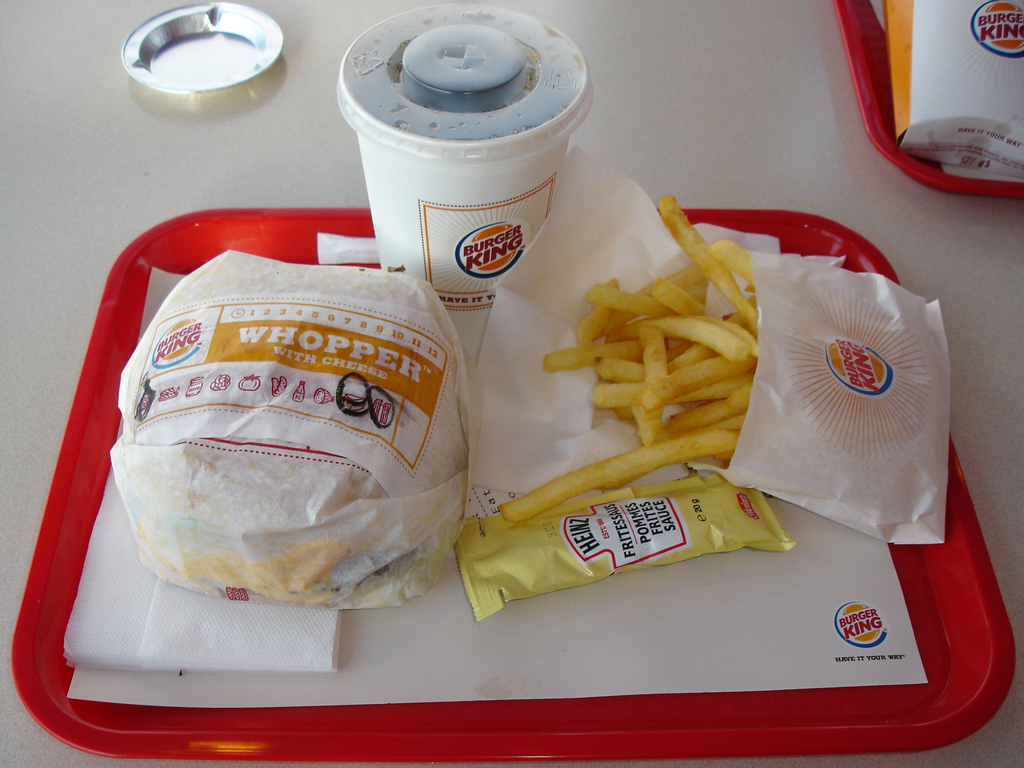French fries: (539, 219, 783, 476)
